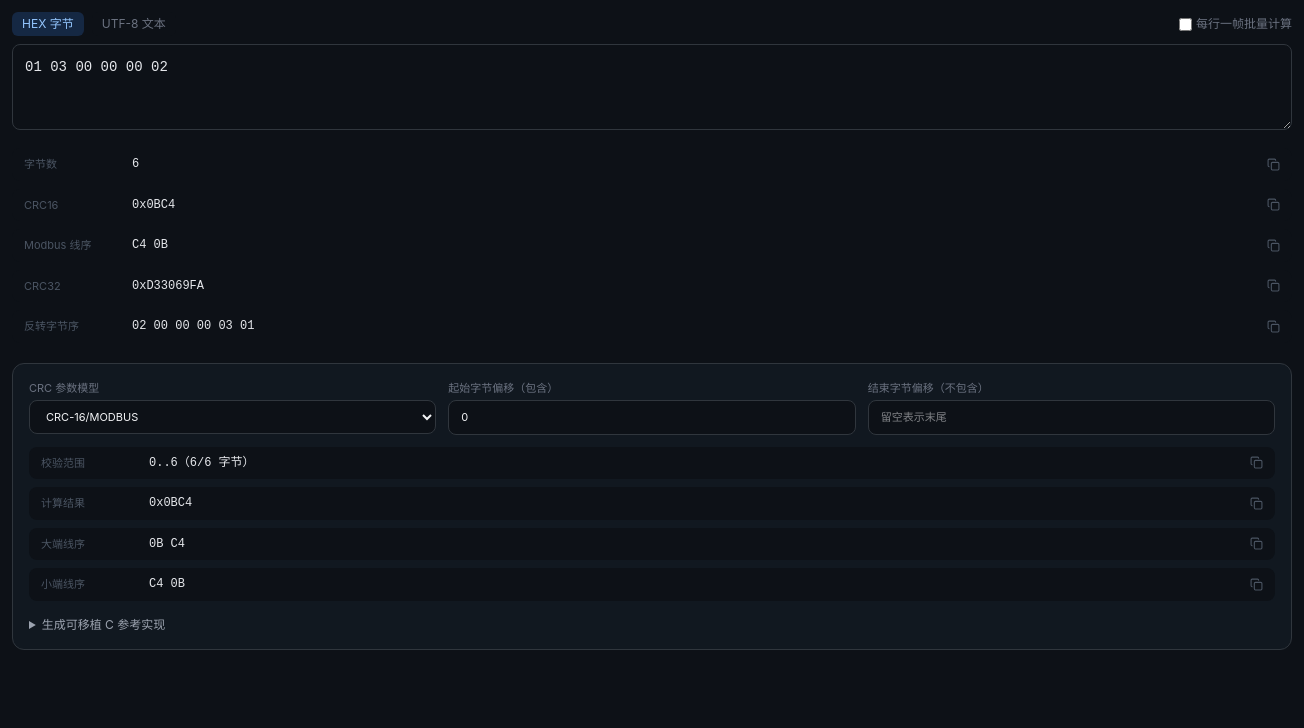
CrcTool engineering workflow › exposes custom parameters and generated C with verification guidance
Select "自定义参数" in the dropdown labelled "CRC 参数模型" at (233, 417), box 29,400 -> 436,434
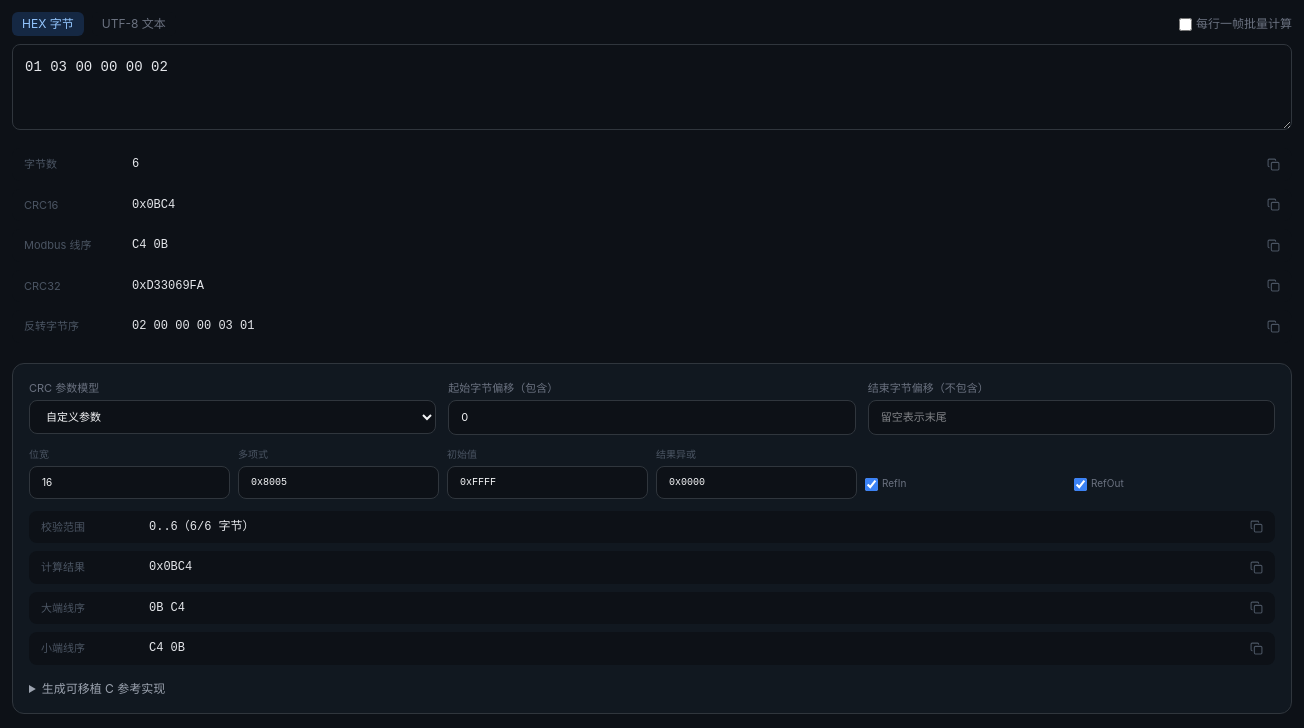
Expected: the field named "CRC 多项式" holds "0x8005", 238,466 -> 439,498
Click the heading "生成可移植 C 参考实现" at (103, 688), box 42,680 -> 165,696
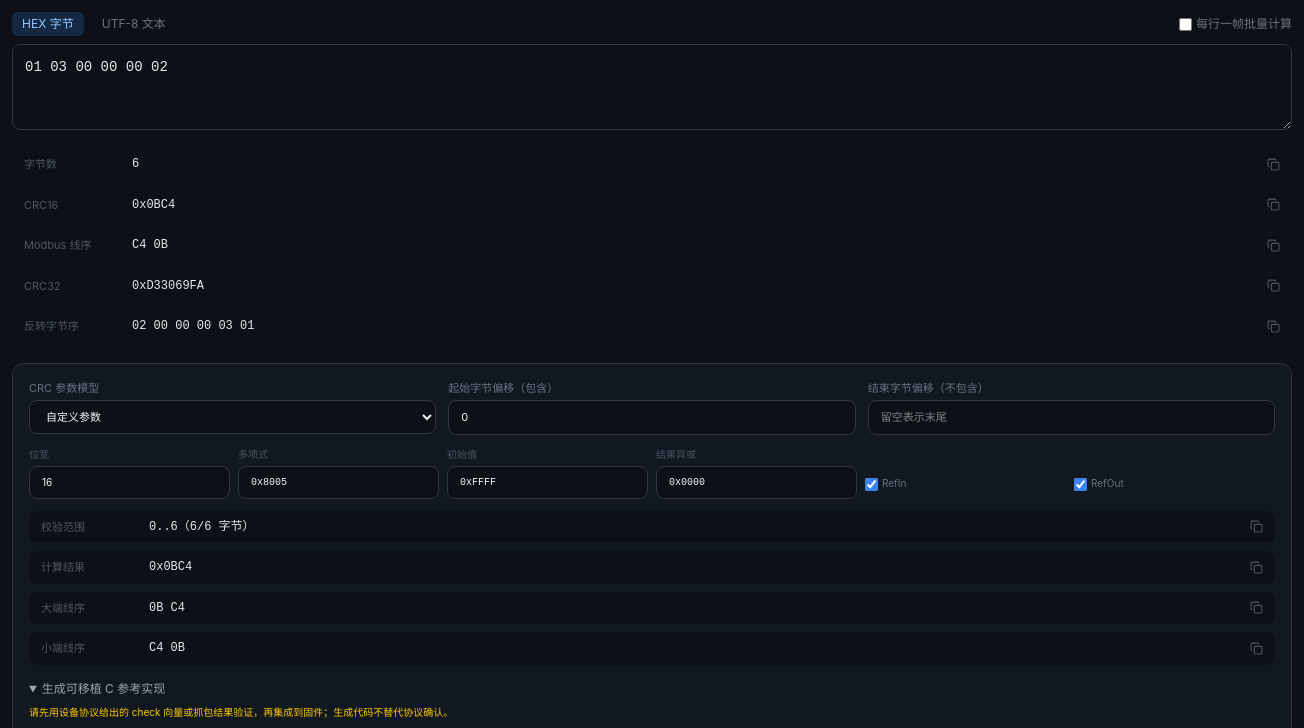
Expected: the text "请先用设备协议给出的 check 向量或抓包结果验证，再集成到固件；生成代码不替代协议确认。" is shown, 29,706 -> 453,718
